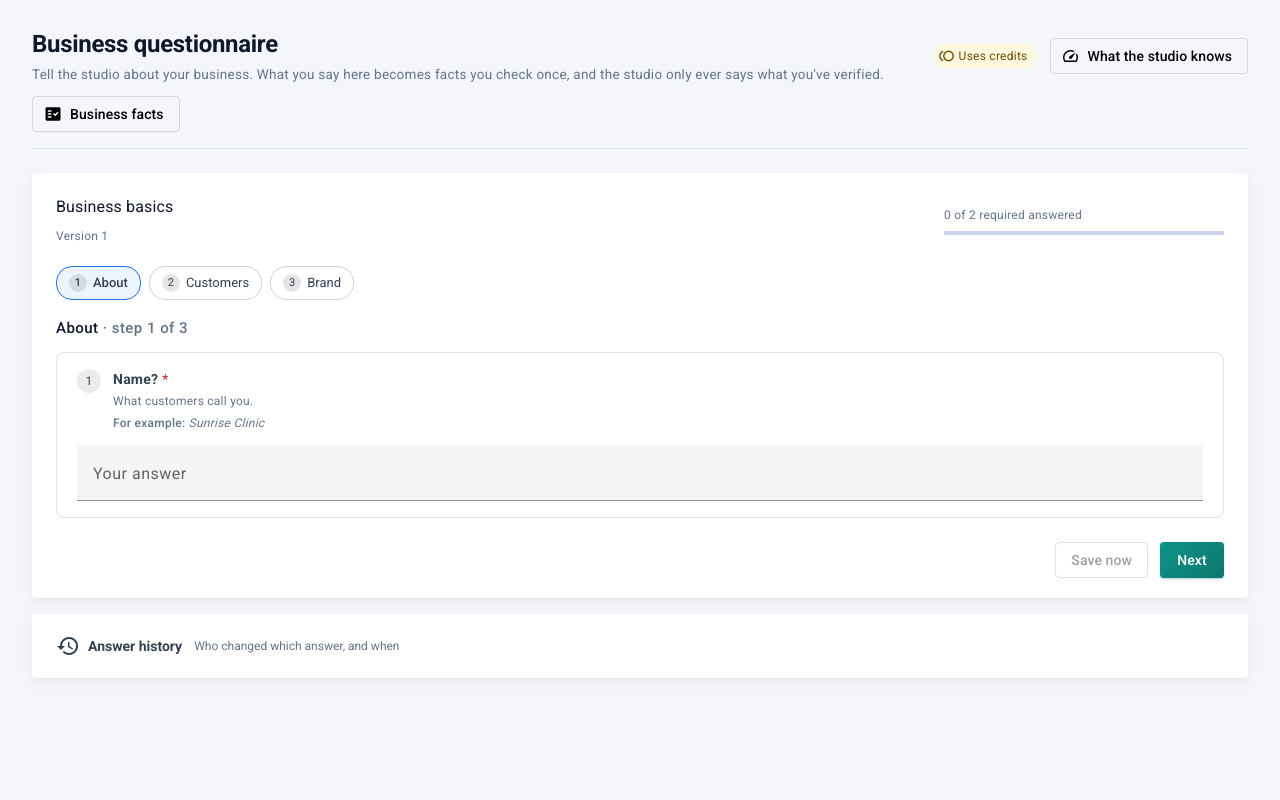
StudioQuestionnaireComponent › the steps › moves forward and back, and any step can be opened to correct an answer
The width and height of the screenshot is (1280, 800).
Click the button "Next" at (1192, 560), box [1160,542,1224,578]
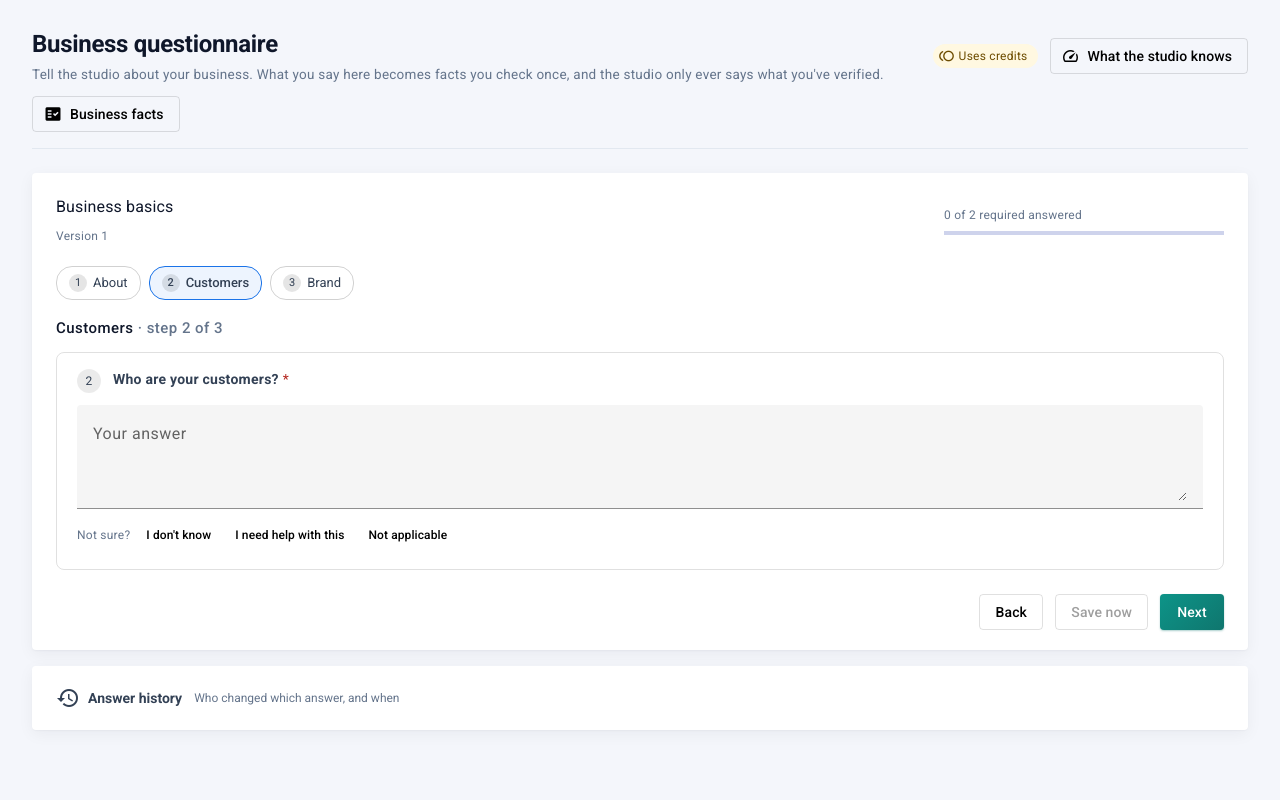
Expected: the element that starts with "Who are your customers?" is shown, [56,352,1224,570]
Click the button with class "step" showing "1 About" at (98, 283), box [56,266,141,300]
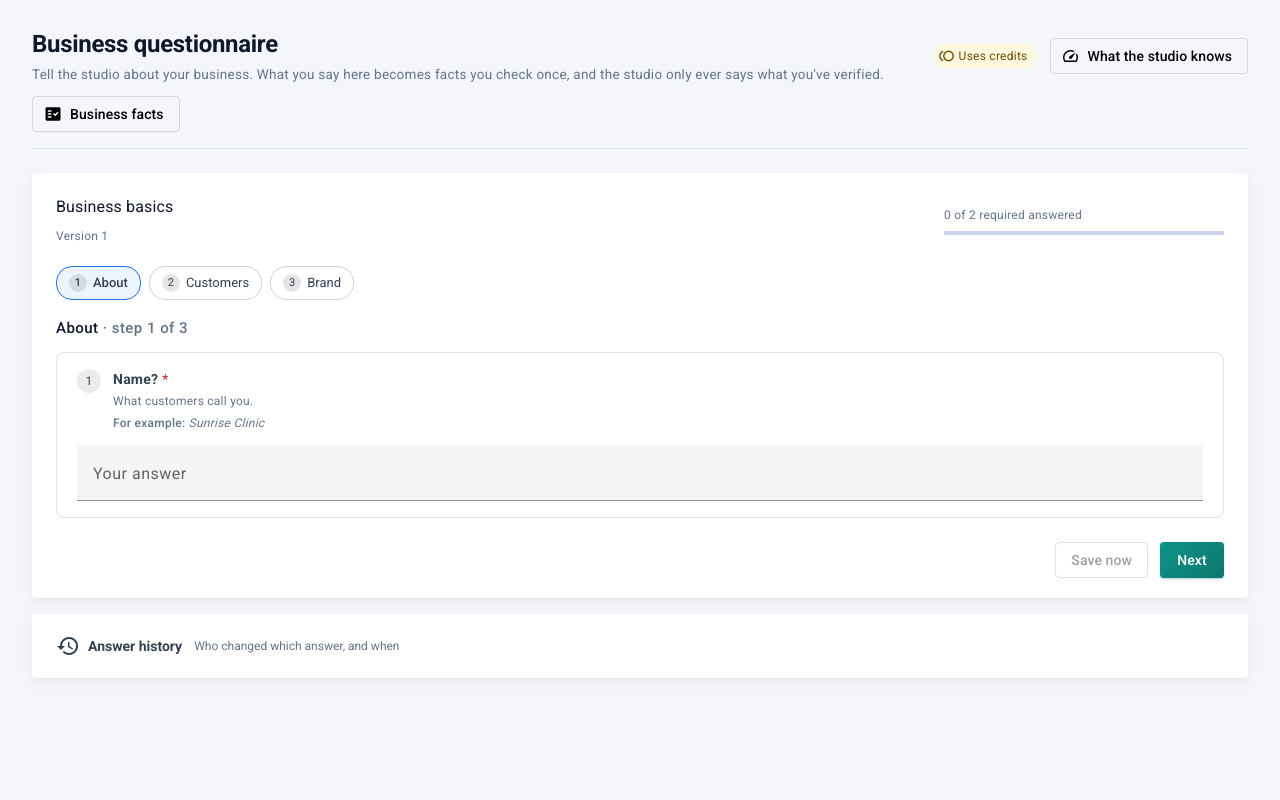
Expected: the element that starts with "Name?" is shown, [56,352,1224,518]
Expected: the button "Back" no longer shows "Back"
